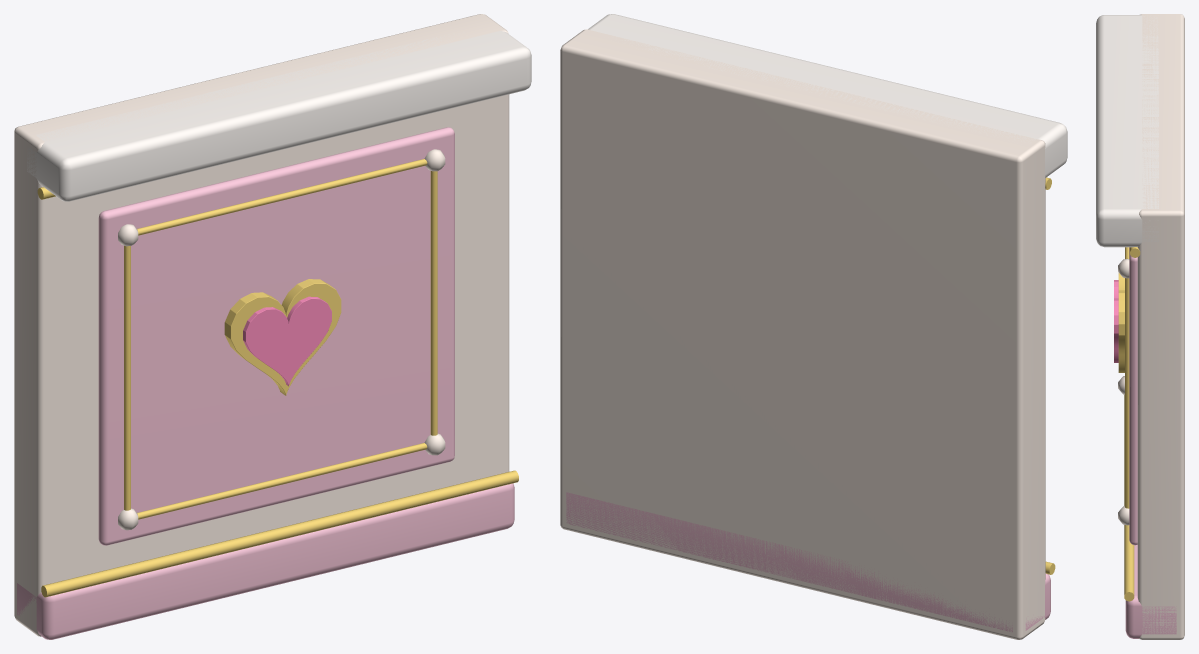
The model's file is wall_plain.glb.
3 views of the same model, side by side, from view 1: azimuth 30°, elevation 25°; view 2: azimuth 150°, elevation 25°; view 3: azimuth 270°, elevation 25° (orthographic). The views are drawn at different scales.
Visible parts, largest first — view 1: wall_plain; view 2: wall_plain; view 3: wall_plain.
Part boxes in pixels (box(x1,y1,x2,y2)): wall_plain: box(14, 14, 531, 639); wall_plain: box(560, 14, 1067, 639); wall_plain: box(1096, 14, 1184, 639).
Size of the model in its own units: 4 by 4 by 0.75.
